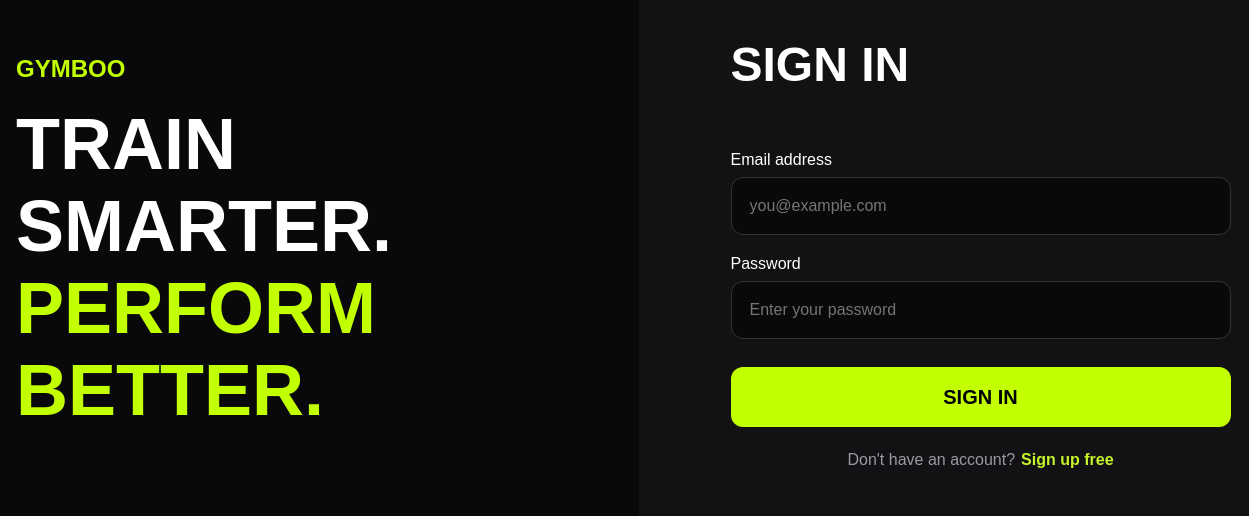
Auth flow › shows an error for invalid login
Type "wrong@test.com" into the field with id "email" at (981, 206), box [731,177,1231,235]
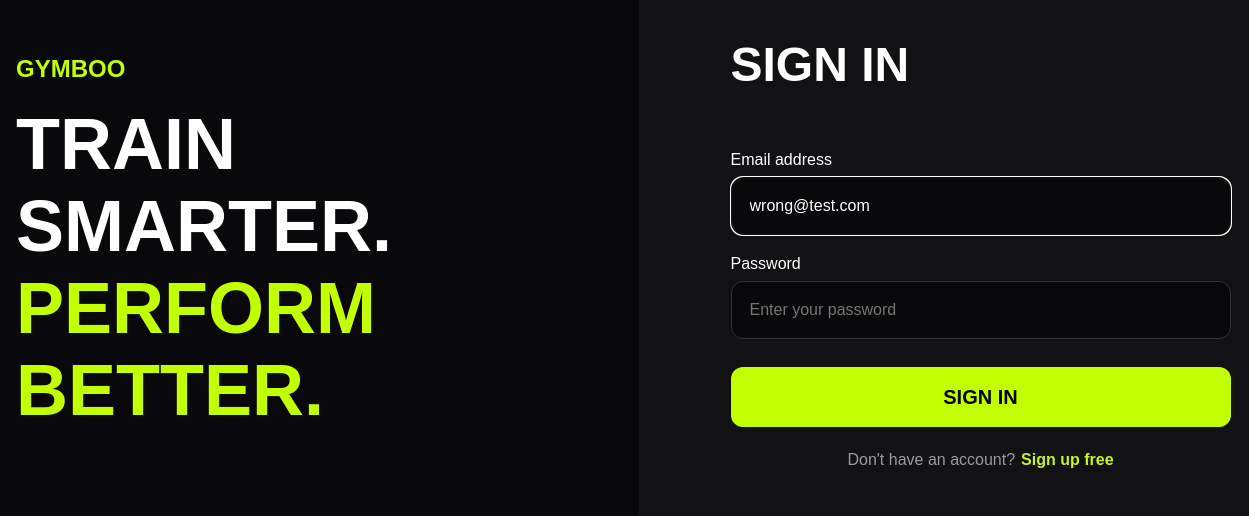
Type "badpassword" into the password field labelled "Password" at (981, 310), box [731,281,1231,339]
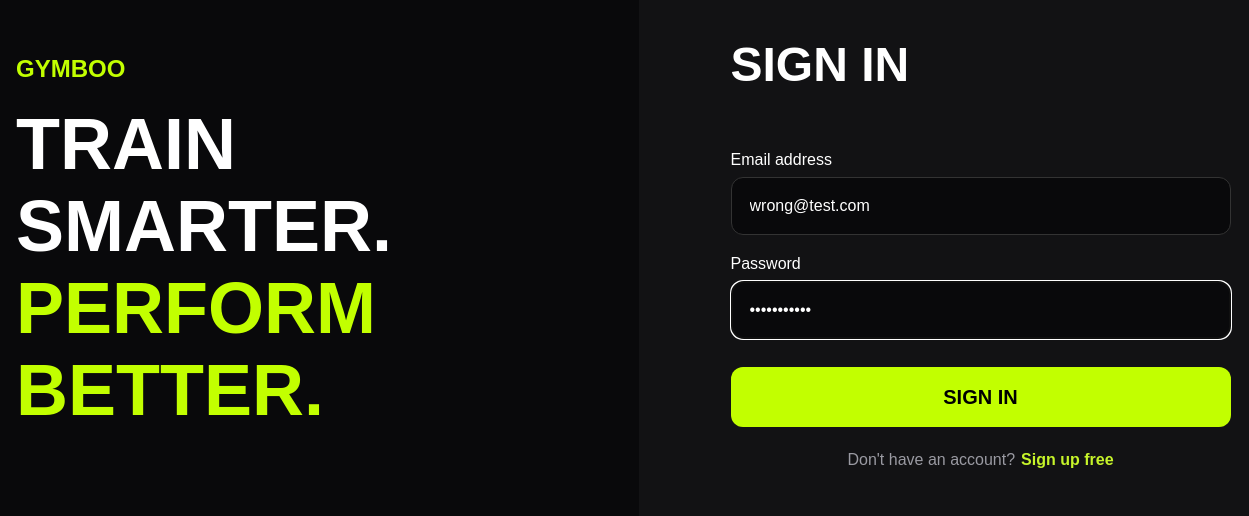
Click the button "Sign In" at (981, 397), box [731,367,1231,427]
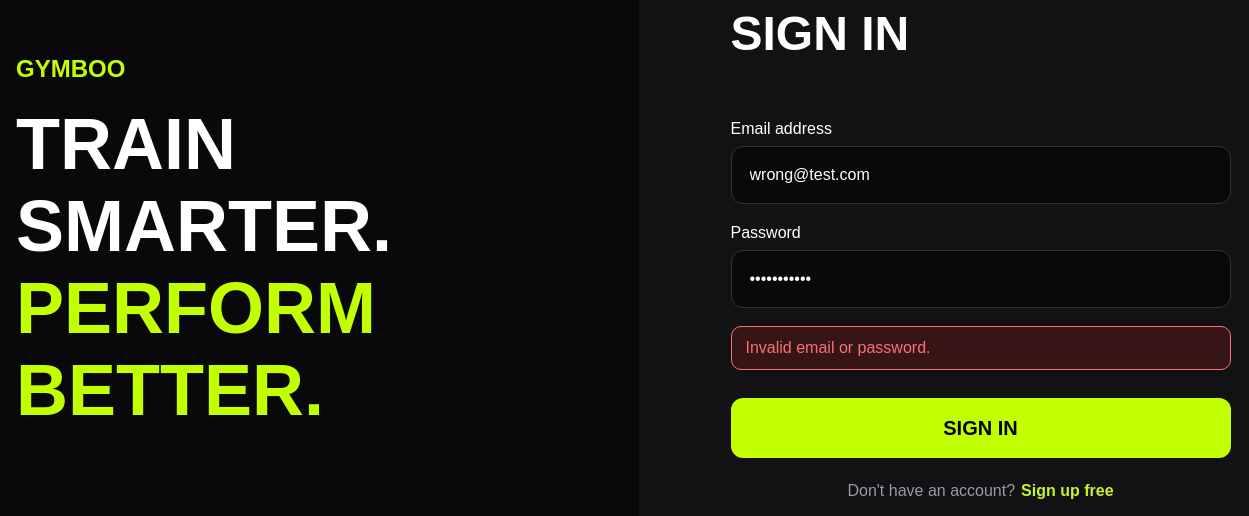
Now the text "Invalid email or password." is shown, box [730,326,1230,370]
